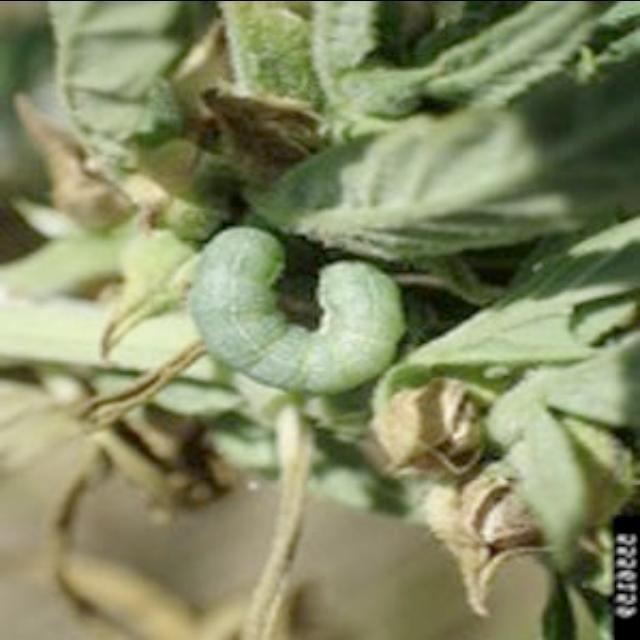Beet armyworm: (180, 179, 414, 431)
